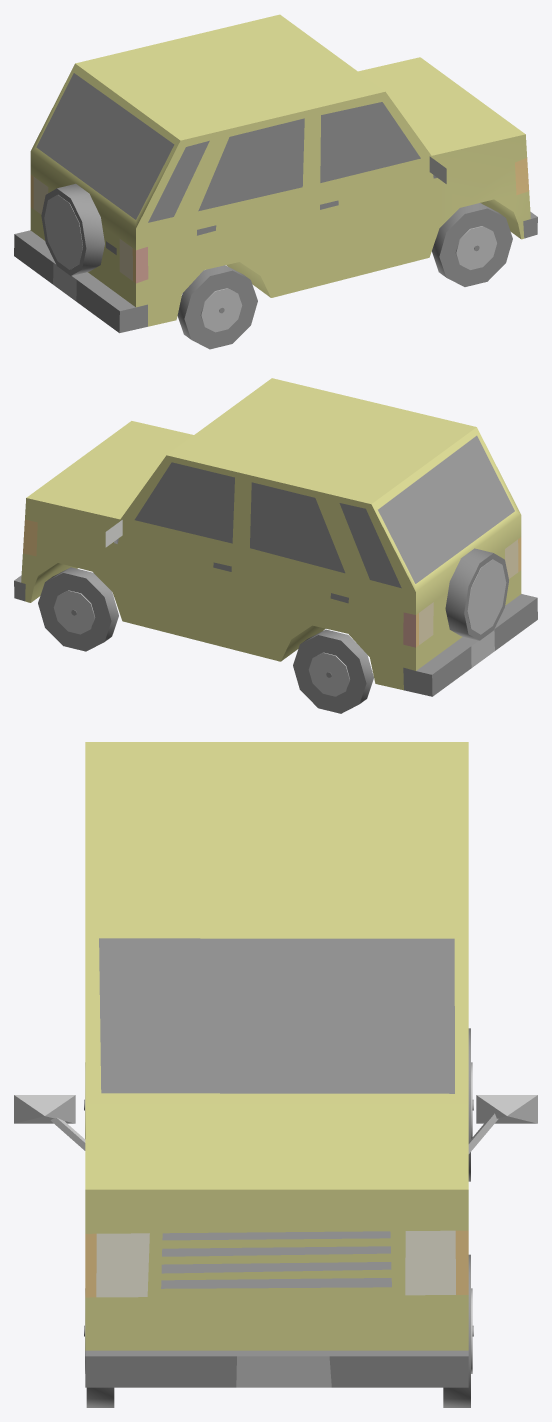
File: kar_l_3.fbx
The picture shows the model from 3 angles, top to bottom: view 1: azimuth 30°, elevation 25°; view 2: azimuth 150°, elevation 25°; view 3: azimuth 270°, elevation 25°; orthographic projection. The views are drawn at different scales.
Parts seen in each view (by area): view 1: Cube, Cylinder_6, Cylinder_9; view 2: Cube, Cylinder_7, Cylinder_8; view 3: Cube, Cylinder_7.
Part boxes in pixels (left/top/right/bottom): Cube: left=14, top=14, right=537, bottom=333; Cylinder_6: left=432, top=203, right=512, bottom=286; Cylinder_9: left=177, top=265, right=257, bottom=349; Cube: left=14, top=378, right=537, bottom=696; Cylinder_7: left=38, top=567, right=118, bottom=651; Cylinder_8: left=293, top=629, right=373, bottom=713; Cube: left=14, top=742, right=537, bottom=1387; Cylinder_7: left=443, top=1254, right=473, bottom=1407.
Bounding box in the file's own units: 437 × 215 × 259.
